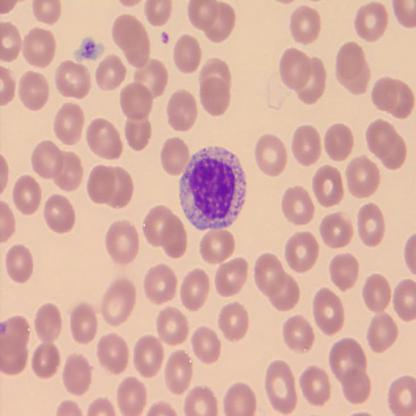Metamyelocyte: (177, 144, 247, 232)
